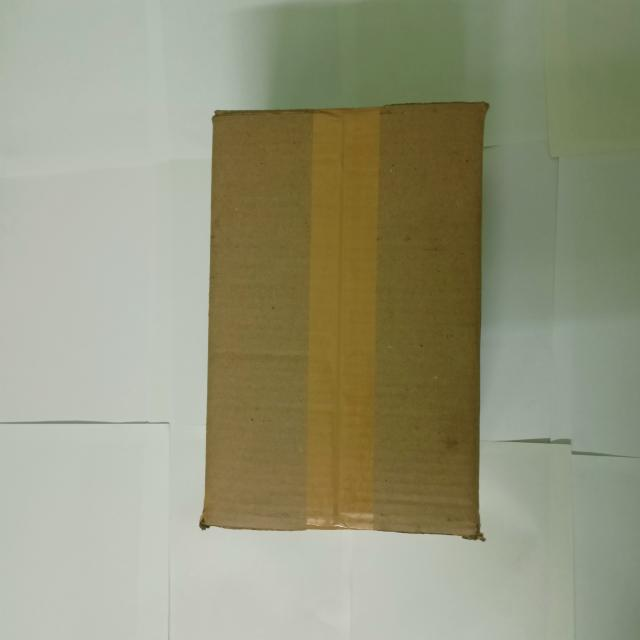box: (200, 102, 490, 544)
